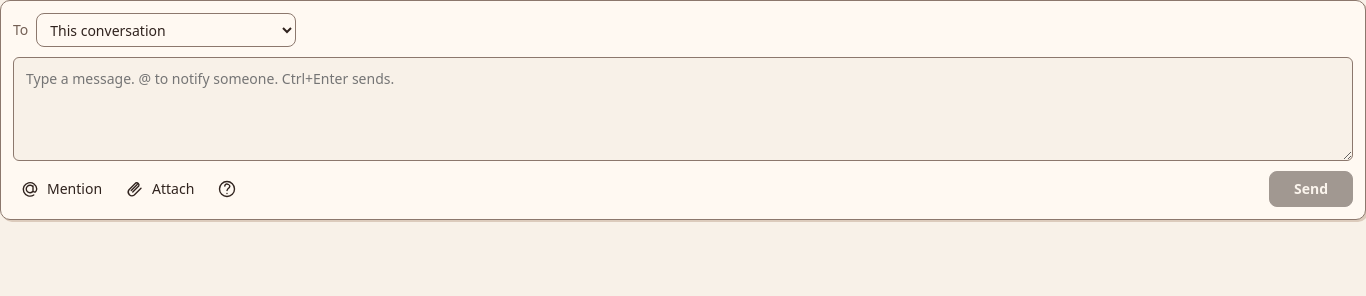
Test case: Composer @autocomplete › Esc closes the mentions menu
Type "@ar" into the text box with test id "composer-text".
click(683, 109); type("@ar")  # box [13,57,1353,161]
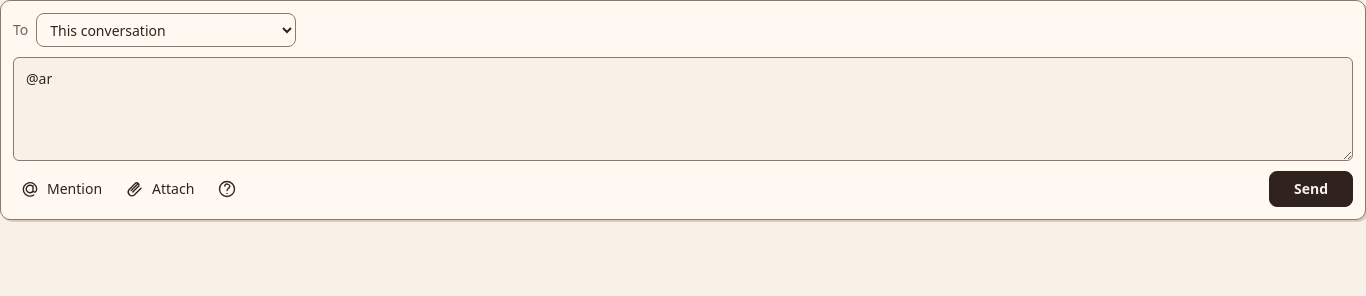
Press r in the text box with test id "composer-text", box [13,57,1353,161]
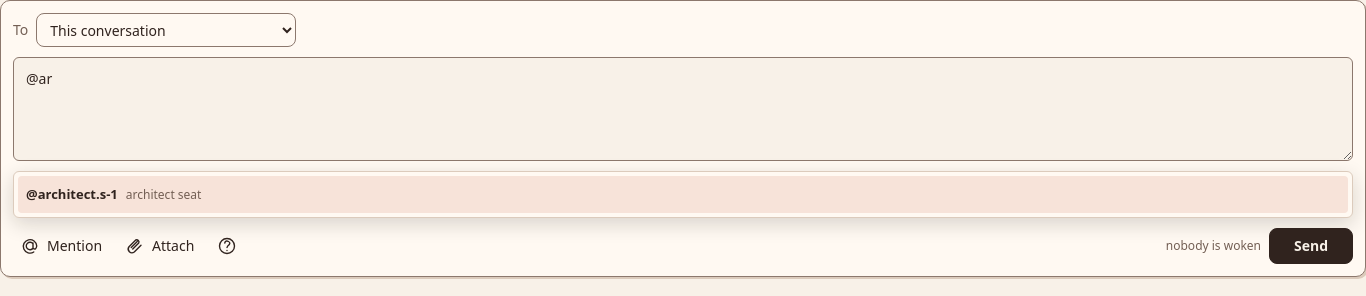
Now the list with test id "mentions-menu" is shown, box [13,171,1353,218]
Press Escape in the text box with test id "composer-text", box [13,57,1353,161]
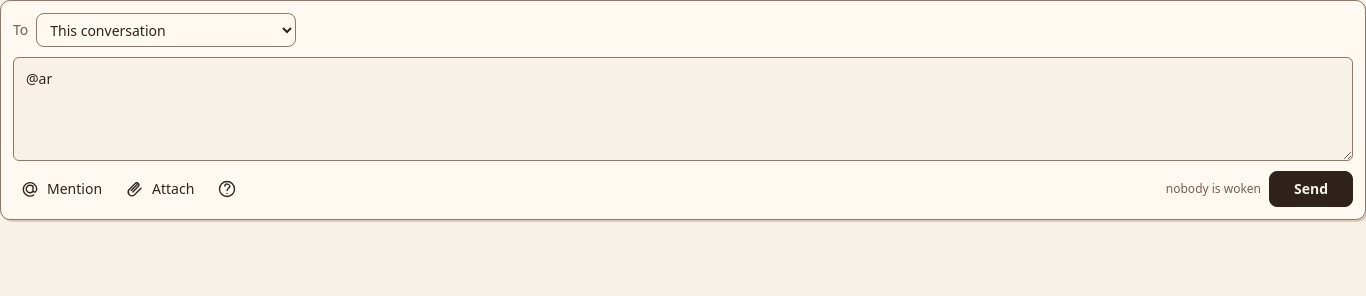
Now the list with test id "mentions-menu" is gone
